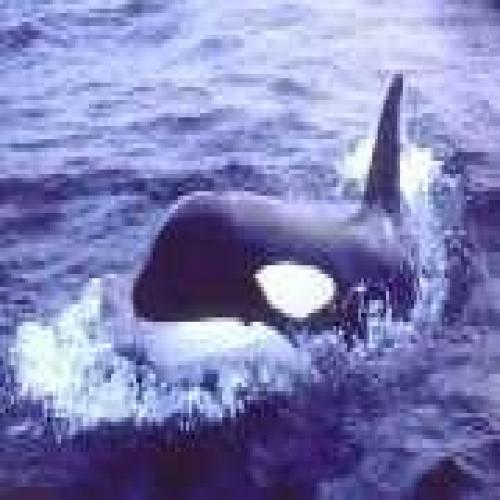killer_whale-endangered: (119, 154, 434, 358)
